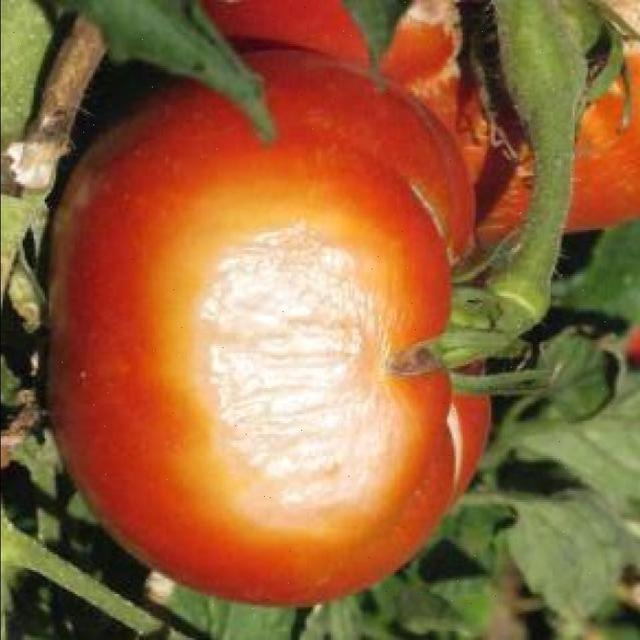Sunscald Fruit: (119, 126, 279, 363)
